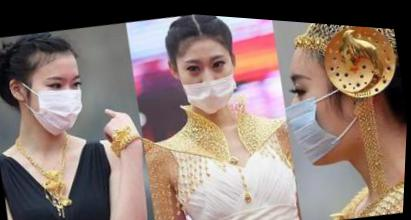OK: (276, 52, 360, 170), (23, 64, 93, 143)
WRONG: (175, 37, 243, 118)
